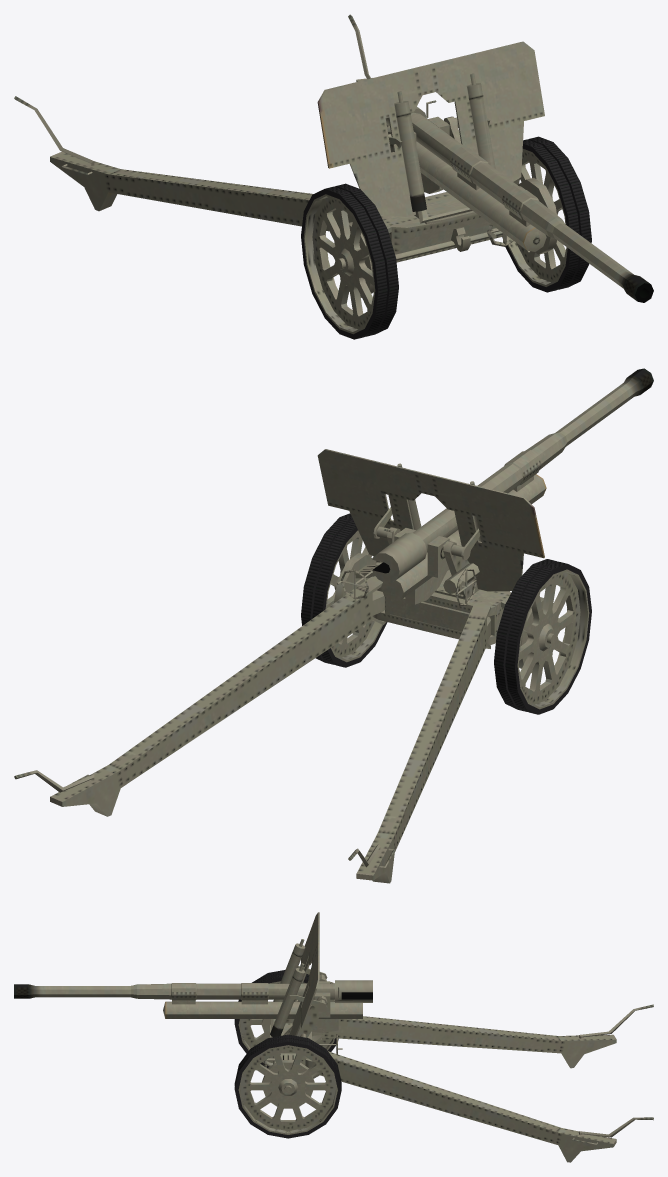
The model's file is HUN31M_105mm.dae.
3 views of the same model, one above another, from view 1: azimuth 30°, elevation 25°; view 2: azimuth 150°, elevation 25°; view 3: azimuth 270°, elevation 25° (orthographic). The views are drawn at different scales.
Visible parts, largest first — view 1: shield, wheels, trail2, barrel, sleeve, turret, carriage; view 2: wheels, shield, trail1, trail2, barrel, carriage, sleeve, turret; view 3: wheels, trail1, trail2, barrel, sleeve, turret, shield.
Boxes of the visible parts, x1,y1,x2,y2 form: shield: (317, 41, 544, 216); wheels: (301, 136, 591, 339); trail2: (14, 96, 352, 231); barrel: (385, 100, 653, 302); sleeve: (387, 116, 546, 251); turret: (388, 73, 495, 224); carriage: (380, 190, 537, 262); wheels: (301, 513, 591, 714); shield: (317, 449, 544, 591); trail1: (14, 576, 386, 816); trail2: (348, 601, 490, 883); barrel: (372, 368, 653, 582); carriage: (355, 565, 510, 645); sleeve: (381, 450, 546, 604); turret: (337, 463, 481, 605); wheels: (234, 970, 341, 1138); trail1: (305, 1051, 653, 1162); trail2: (312, 1004, 653, 1068); barrel: (14, 980, 372, 1002); sleeve: (163, 981, 362, 1033); turret: (270, 939, 342, 1054); shield: (289, 912, 319, 1035).
Bounding box in the file's own units: 29.9 × 70.75 × 20.35.
Materials: 1 (1 with a texture image).
